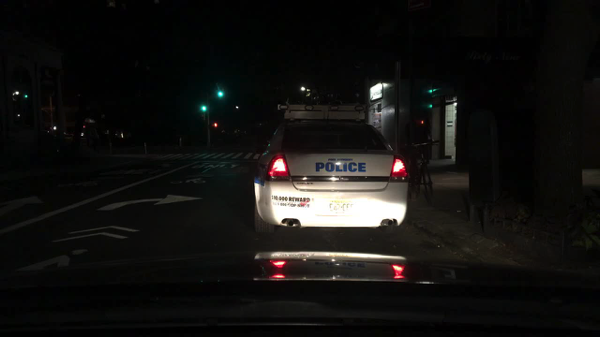bike: (402, 137, 440, 202)
car: (251, 102, 411, 236)
rider: (402, 112, 433, 183)
traffic light: (216, 81, 226, 99), (200, 98, 207, 114), (212, 122, 218, 130)
